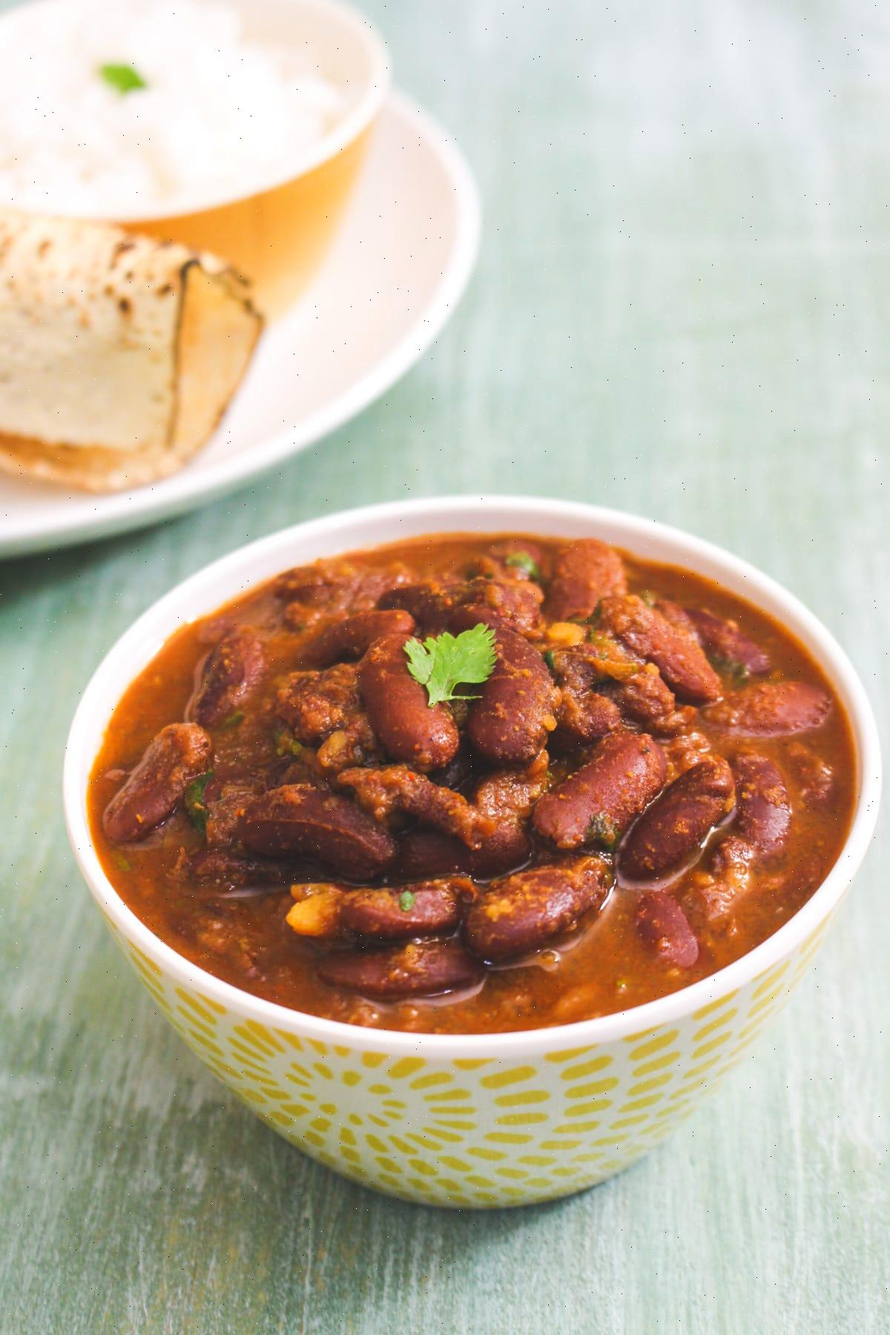rajma: (133, 556, 890, 1020)
